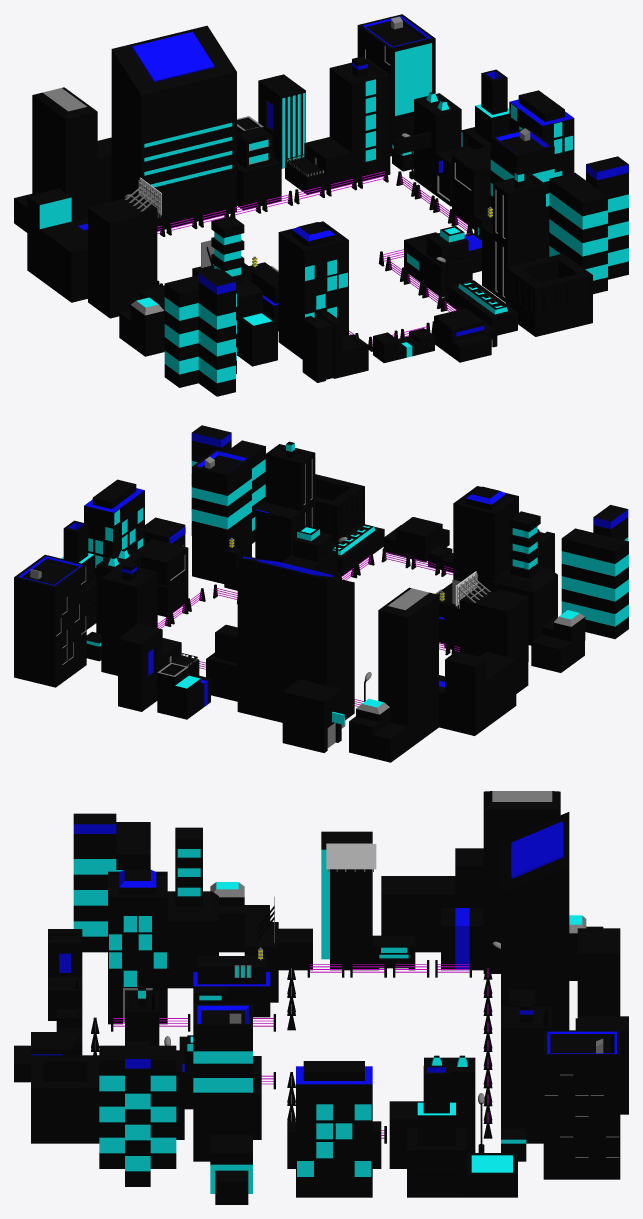
Rendered from nievel 1 test.FBX.
The picture shows the model from 3 angles, top to bottom: view 1: azimuth 30°, elevation 25°; view 2: azimuth 150°, elevation 25°; view 3: azimuth 270°, elevation 25°; orthographic projection. The views are drawn at different scales.
Visible parts, largest first — view 1: Box032, Box034, Box144, Box151, Box017, Box023, Box030, Box143, Box140, Box031, Box141, Box149 (+21 smaller); view 2: Box032, Box149, Box030, Box151, Box083, Box140, Box031, Box017, Box034, Box023, Box141, Box145 (+20 smaller); view 3: Box149, Box032, Box145, Box144, Box031, Box148, Box083, Box017, Box151, Box143, Box141, Box023 (+22 smaller).
Part boxes in pixels (x1,y1,x2,y2): Box032: (111,25,236,230); Box034: (285,56,390,194); Box144: (549,156,628,294); Box151: (164,268,236,396); Box017: (278,221,348,359); Box023: (88,195,157,318); Box030: (32,87,97,221); Box143: (506,253,592,336); Box140: (482,171,545,302); Box031: (27,188,87,302); Box141: (211,216,277,366); Box149: (357,14,435,156); Box032: (237,558,354,722); Box149: (14,554,86,687); Box030: (378,587,438,749); Box151: (561,505,628,638); Box083: (192,449,251,583); Box140: (255,441,315,562); Box031: (439,651,516,735); Box017: (453,486,518,590); Box034: (101,561,199,675); Box023: (460,588,528,693); Box141: (492,511,557,645); Box145: (84,479,144,574); Box149: (543,1030,620,1179); Box032: (501,812,569,1030); Box145: (296,1061,372,1197); Box144: (99,1041,176,1186); Box031: (381,848,483,970); Box148: (407,1065,517,1197); Box083: (193,1004,252,1161); Box017: (108,869,167,1024); Box151: (73,813,150,952); Box143: (31,1055,99,1143); Box141: (167,827,218,988); Box023: (321,831,372,970).
Bounding box in the file's own units: 2992 × 979 × 2835.
